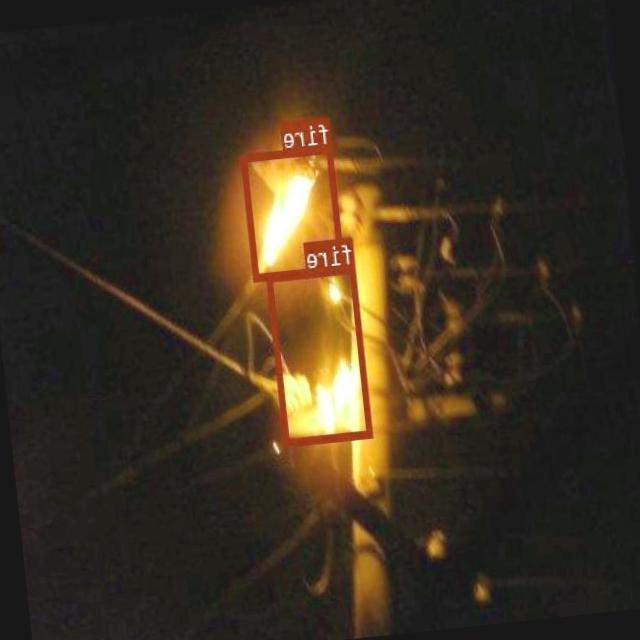fire: (267, 264, 373, 444), (241, 142, 346, 279)
